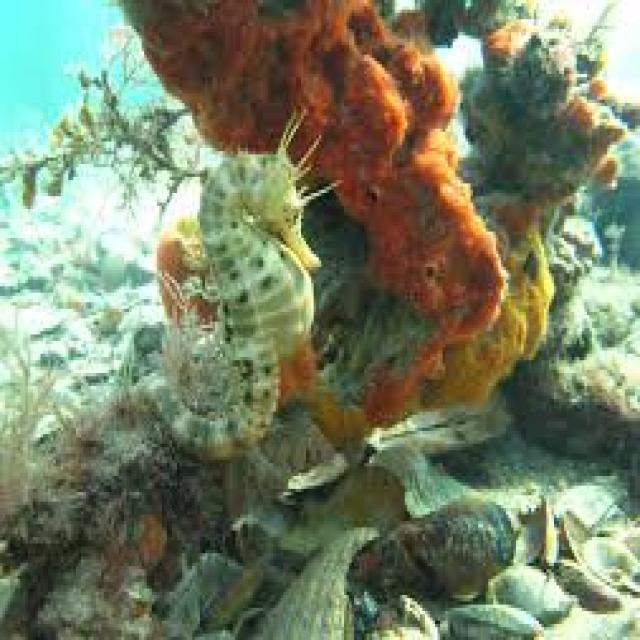SeaHorse: (154, 151, 322, 460)
